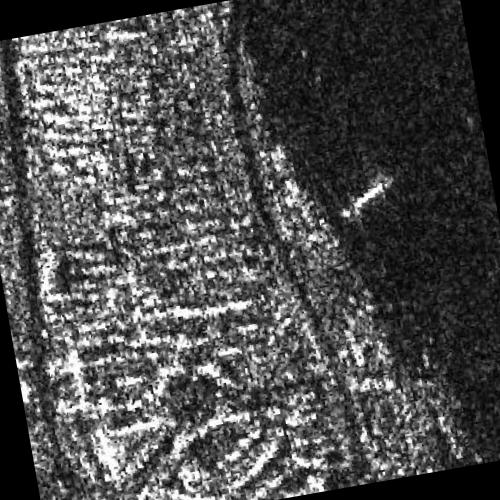ship: (341, 174, 396, 220)
